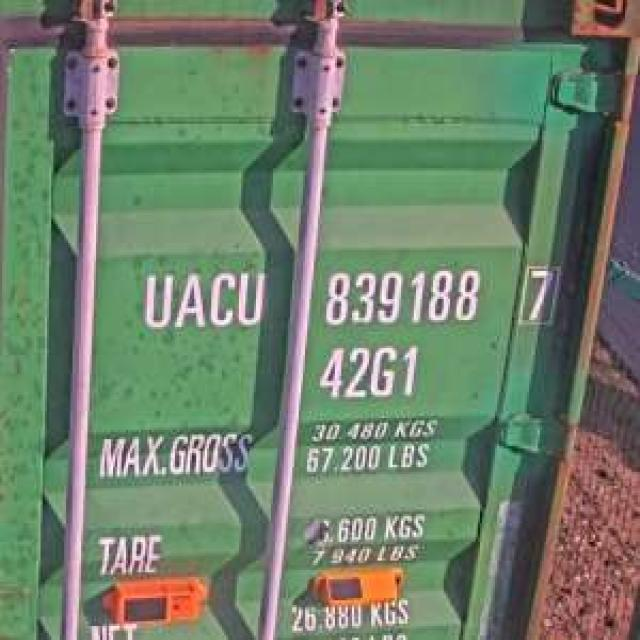dv: (514, 257, 563, 329)
owner: (134, 262, 269, 336)
serial: (316, 262, 484, 329)
size: (312, 336, 422, 404)
